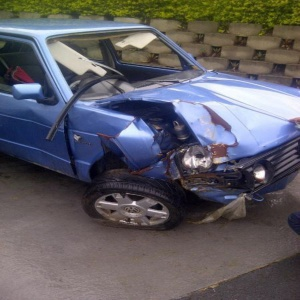bonnet: (149, 80, 250, 144)
